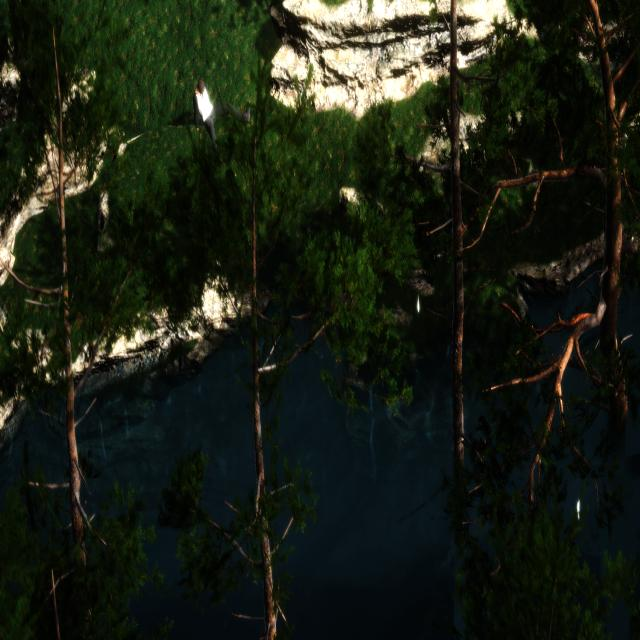Human: (190, 74, 252, 162)
